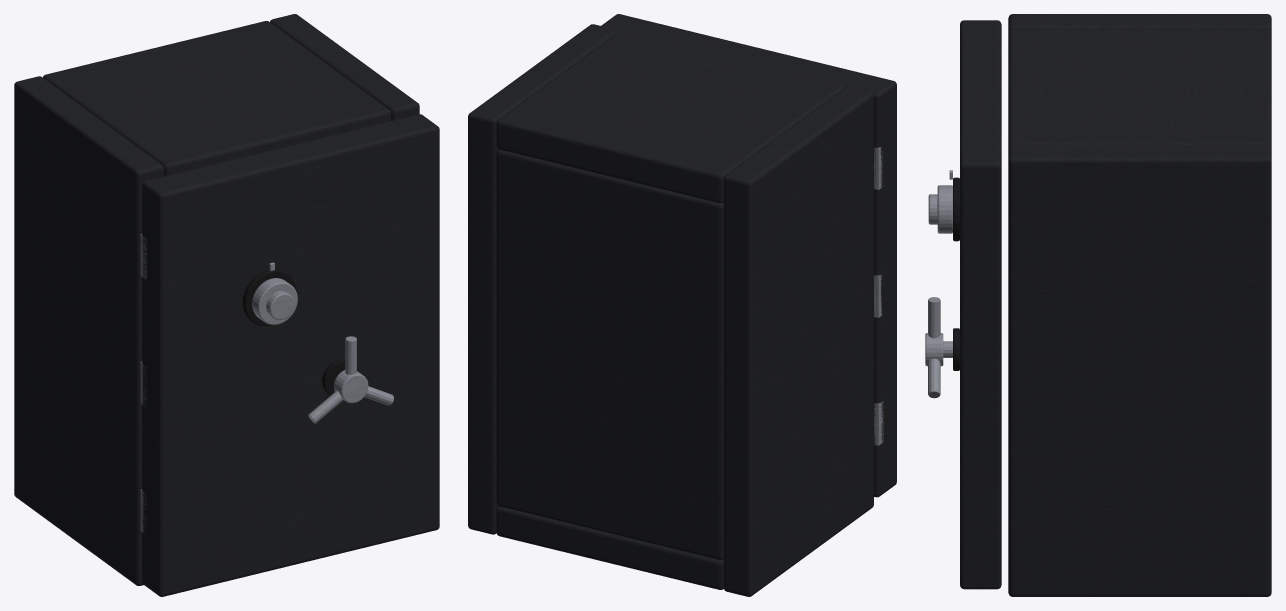
File: safe.glb
3 views of the same model, side by side, from view 1: azimuth 30°, elevation 25°; view 2: azimuth 150°, elevation 25°; view 3: azimuth 270°, elevation 25° (orthographic). The views are drawn at different scales.
Parts seen in each view (by area): view 1: door, safe.001; view 2: safe.001, door; view 3: safe.001, door.
Part boxes in pixels (x1,y1,x2,y2): door: [140, 114, 439, 596]; safe.001: [14, 14, 419, 585]; safe.001: [468, 24, 873, 596]; door: [601, 14, 896, 497]; safe.001: [1008, 14, 1271, 596]; door: [925, 20, 1001, 589].
Size of what is drawn, in the model's own units: 0.5 by 0.7 by 0.5.
Materials: 3 (3 with a texture image).
